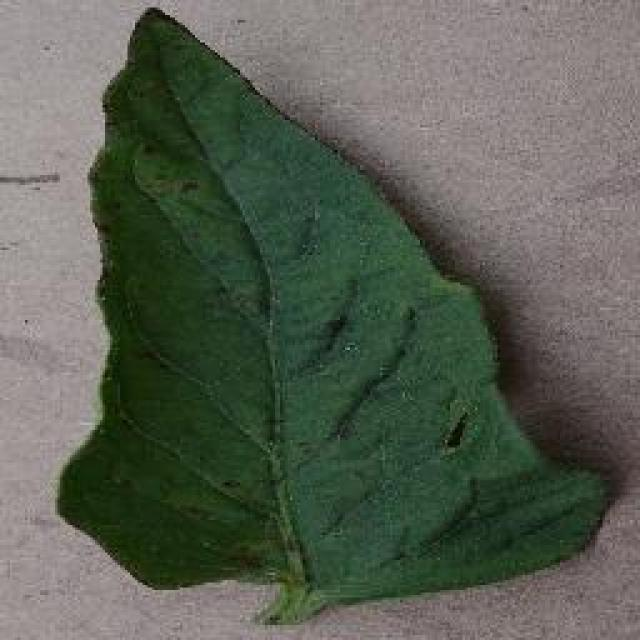Tomato bacterial spot leaf: (73, 12, 605, 618)
